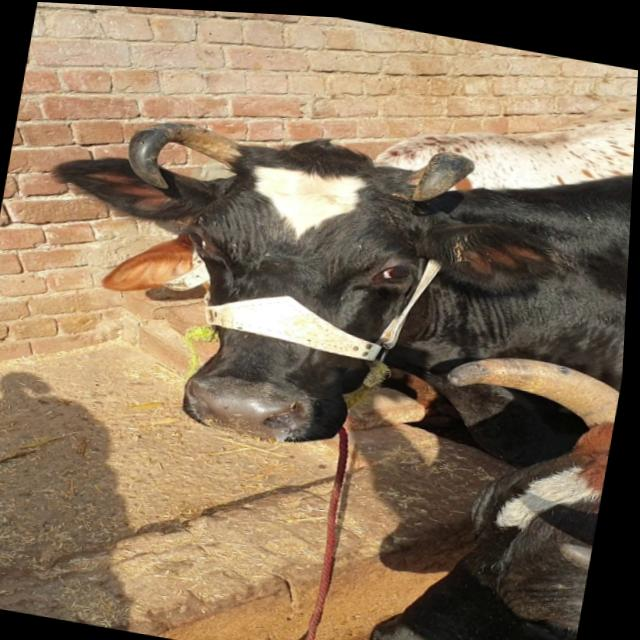cowFace: (85, 78, 474, 472), (402, 322, 628, 640)
